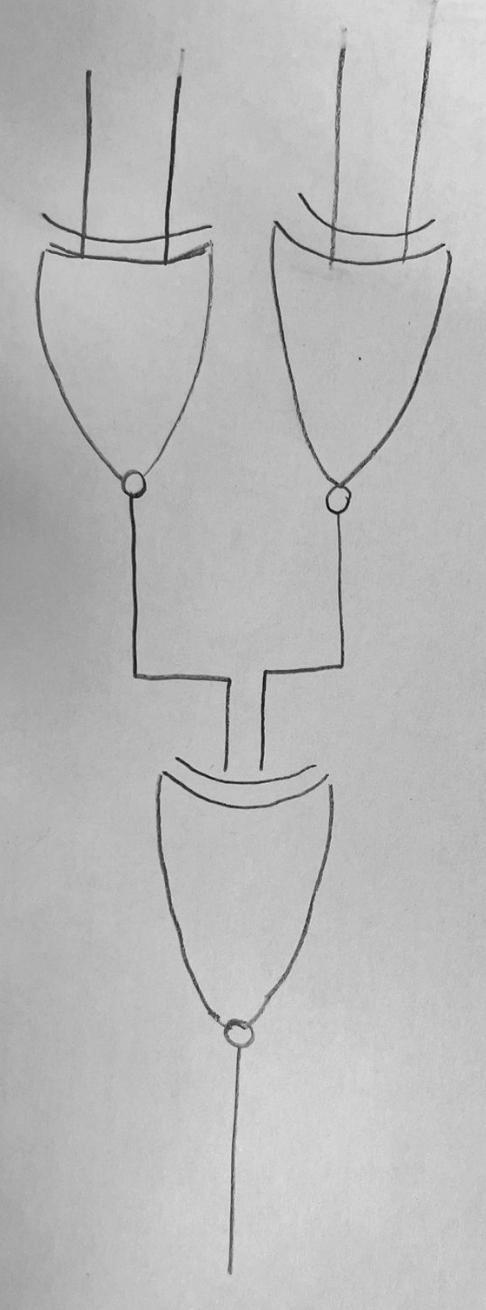XNOR: (23, 195, 244, 539), (137, 723, 363, 1055), (265, 170, 471, 516)
